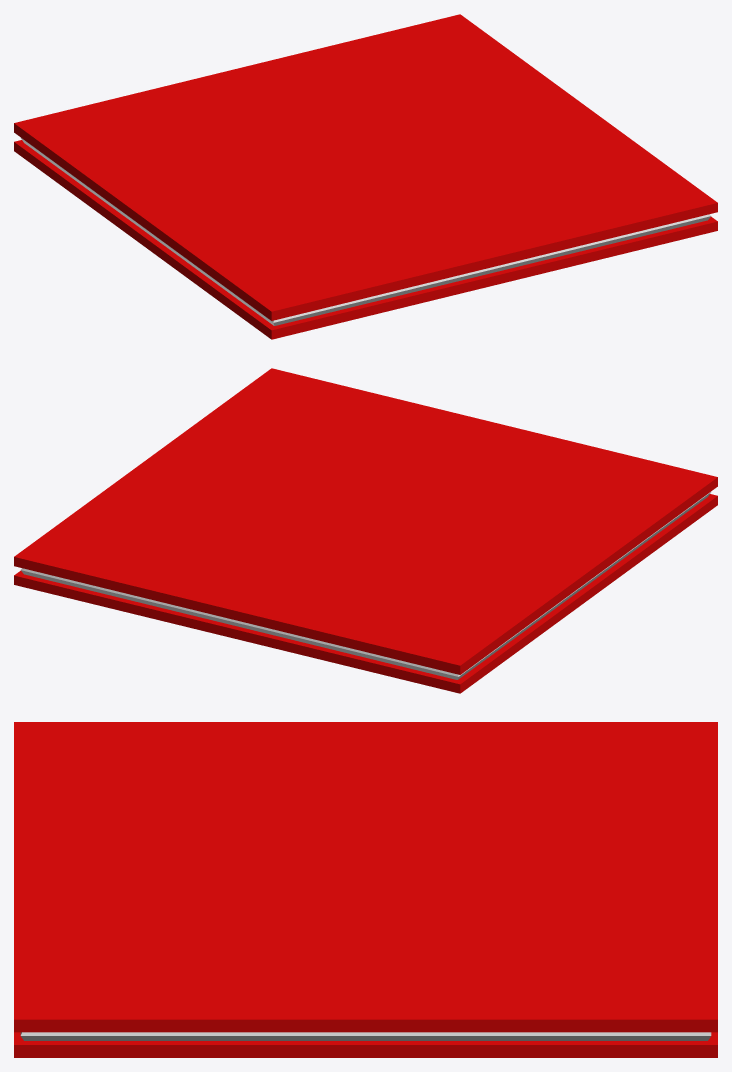
The model's file is posto.fbx_Teto.fbx.
3 renders of one model, top to bottom at view 1: azimuth 30°, elevation 25°; view 2: azimuth 150°, elevation 25°; view 3: azimuth 270°, elevation 25°, orthographic. The views are drawn at different scales.
Parts seen in each view (by area): view 1: teto; view 2: teto; view 3: teto.
Part boxes in pixels (bbox=[...]): teto: bbox=[14, 14, 717, 339]; teto: bbox=[14, 368, 717, 693]; teto: bbox=[14, 722, 717, 1057].
Bounding box in the file's own units: 2000 × 120 × 2000.
